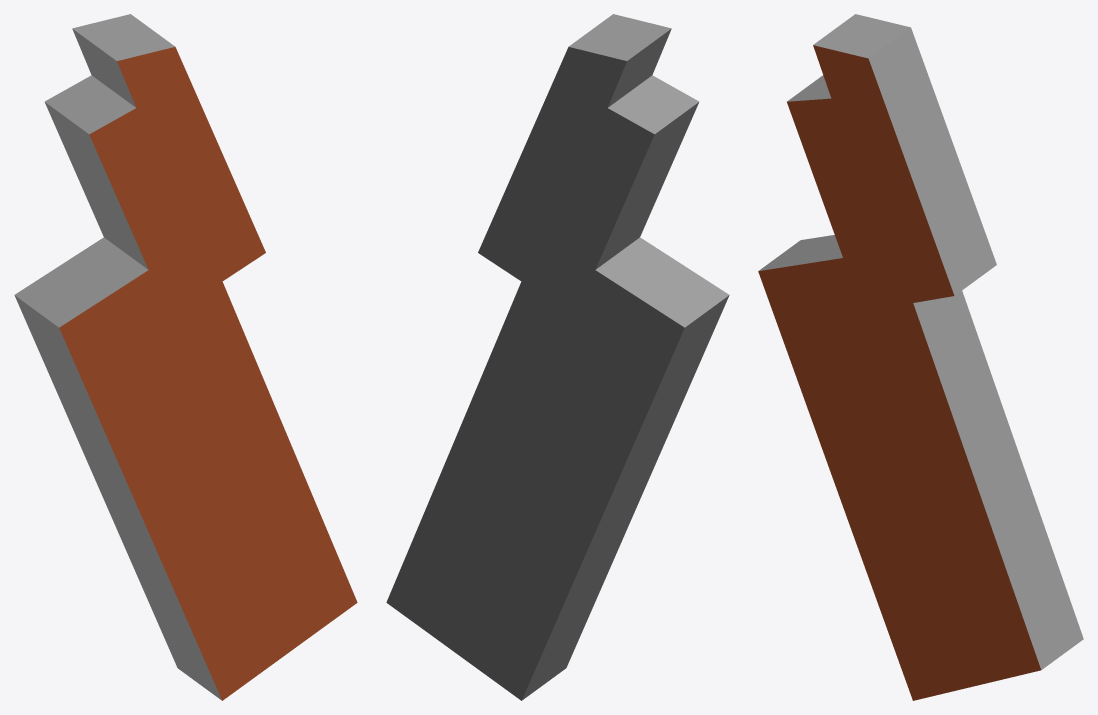
File: construction_1488_assumed_A_Casa_h6m.obj
3 renders of one model, left to right at view 1: azimuth 30°, elevation 25°; view 2: azimuth 150°, elevation 25°; view 3: azimuth 330°, elevation 25°, orthographic. The views are drawn at different scales.
Parts seen in each view (by area): view 1: construction_1488_assumed_A_Casa; view 2: construction_1488_assumed_A_Casa; view 3: construction_1488_assumed_A_Casa.
Part boxes in pixels (x1,y1,x2,y2): construction_1488_assumed_A_Casa: (14, 14, 357, 700); construction_1488_assumed_A_Casa: (386, 14, 729, 700); construction_1488_assumed_A_Casa: (758, 14, 1083, 700).
Bounding box in the file's own units: 23.09 × 49.19 × 6.
